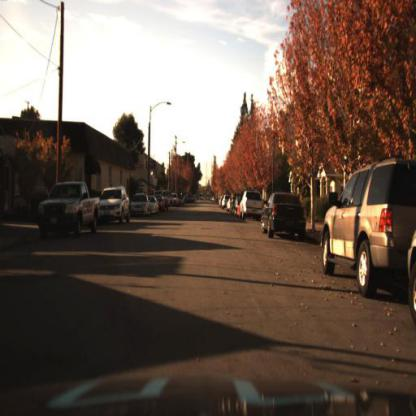car: (321, 157, 416, 303), (35, 179, 101, 244), (260, 189, 308, 242), (261, 195, 310, 245), (101, 187, 133, 227), (238, 190, 266, 222), (130, 193, 150, 218), (146, 195, 162, 220)
